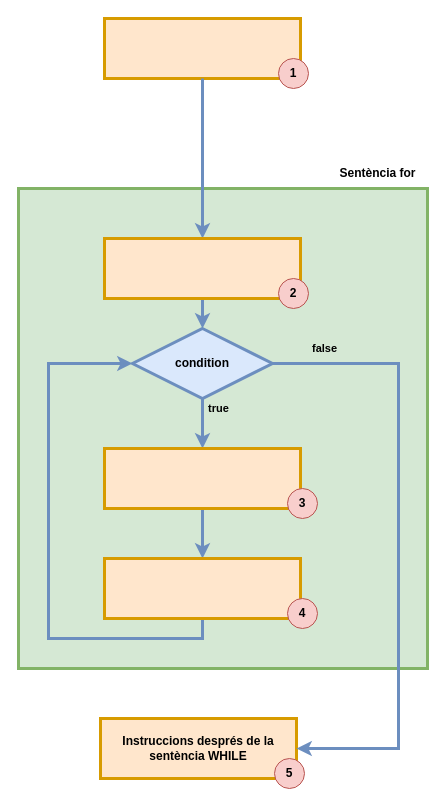
This 446x806 diagram has some shape labels left out. Here are the shapes that lost their labels. From the top down, the box of each, then its label:
(102, 16, 302, 80): Instruccions abans de la sentència FOR
(102, 236, 302, 300): Inicialització de les variables que afecten la condició
(102, 446, 302, 510): Bloc de codi de la sentència FOR
(102, 556, 302, 620): Actualització de les variables que afecten la condició
